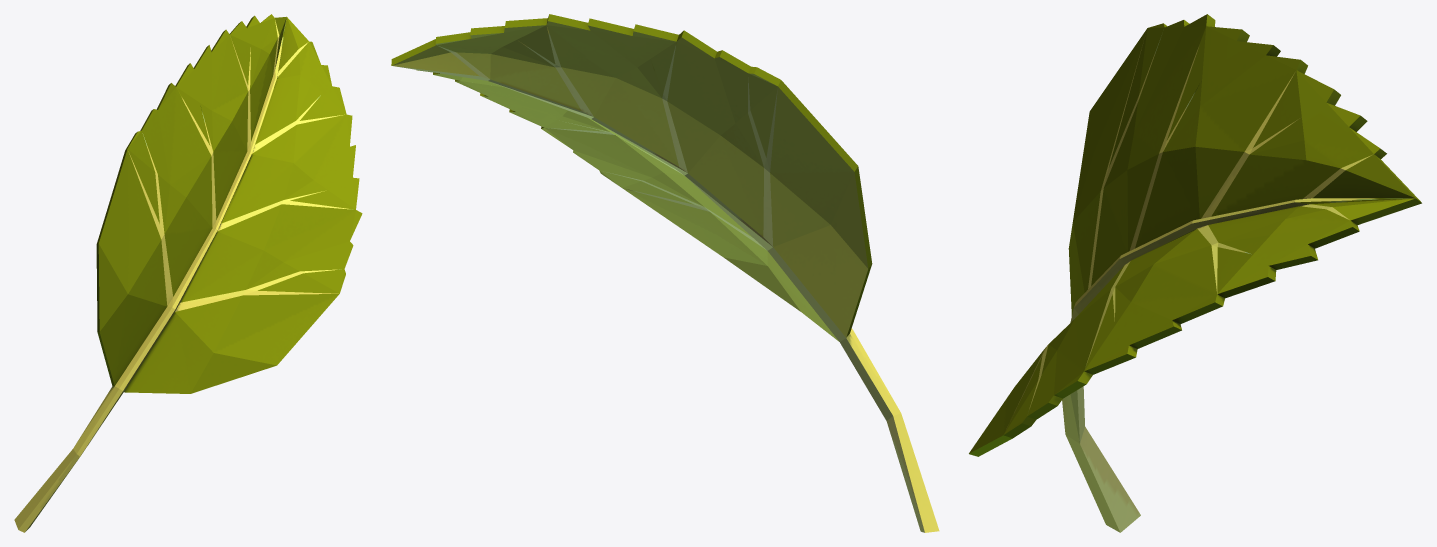
Rendered from basil 1.fbx.
The picture shows the model from 3 angles, left to right: view 1: azimuth 30°, elevation 25°; view 2: azimuth 150°, elevation 25°; view 3: azimuth 270°, elevation 25°; orthographic projection. The views are drawn at different scales.
Visible parts, largest first — view 1: leaf; view 2: leaf; view 3: leaf.
Part boxes in pixels (left/top/right/bottom): leaf: left=14, top=14, right=362, bottom=532; leaf: left=391, top=14, right=939, bottom=532; leaf: left=969, top=14, right=1421, bottom=532.
Size of the model in its own units: 23.02 by 23.88 by 14.44.
